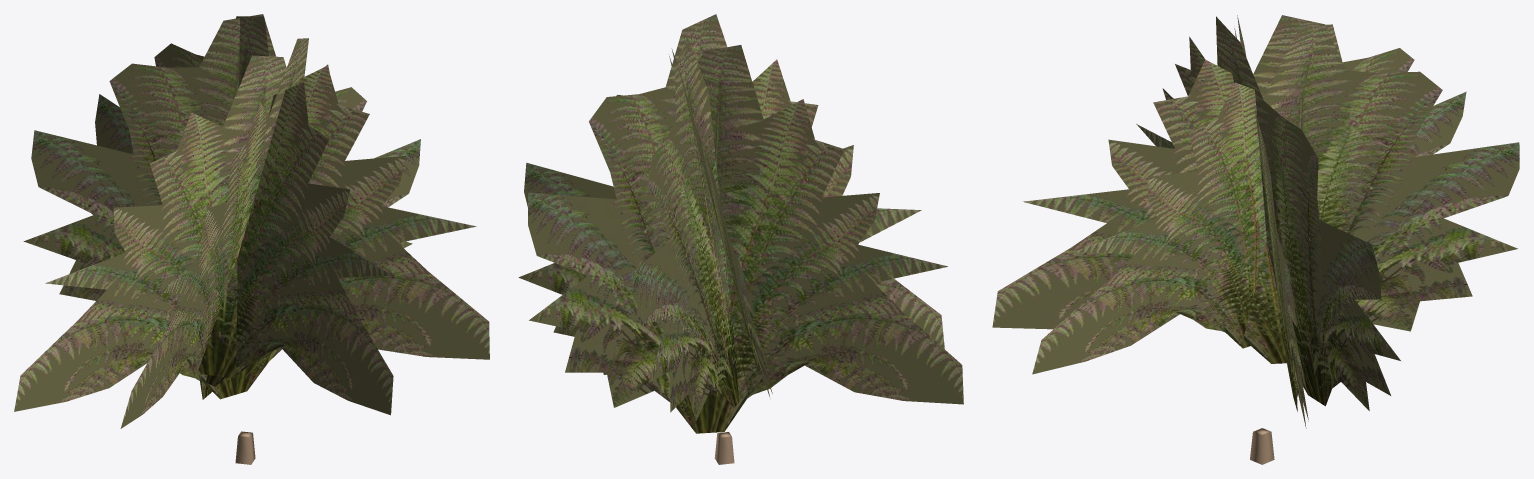
The model's file is under_fern.glb.
3 views of the same model, side by side, from view 1: azimuth 30°, elevation 25°; view 2: azimuth 150°, elevation 25°; view 3: azimuth 270°, elevation 25° (orthographic). The views are drawn at different scales.
Visible parts, largest first — view 1: leaf, woodBark; view 2: leaf, woodBark; view 3: leaf, woodBark.
Boxes of the visible parts, x1,y1,x2,y2 form: leaf: (14, 14, 489, 428); woodBark: (235, 431, 255, 464); leaf: (518, 14, 963, 433); woodBark: (714, 432, 734, 464); leaf: (992, 15, 1519, 428); woodBark: (1250, 428, 1274, 464).
Size of the model in its own units: 0.8496 by 0.8205 by 0.8531.
2 materials, 1 textured.
